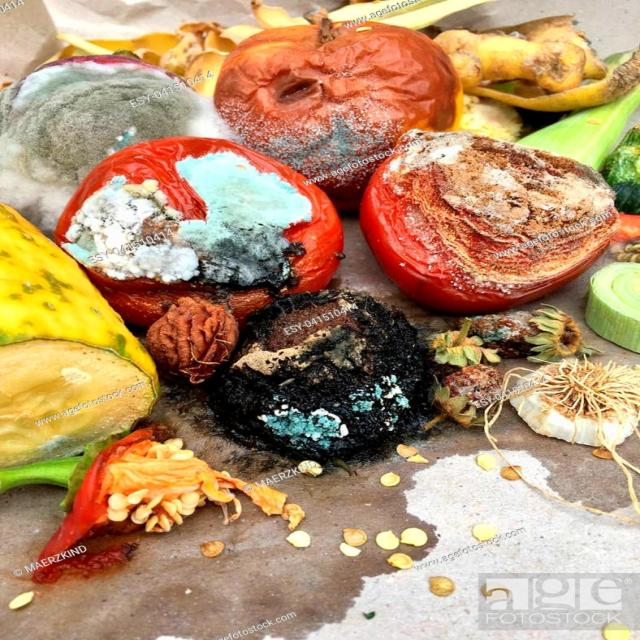Wet Waste: (144, 303, 496, 484), (67, 152, 360, 316), (15, 232, 176, 522), (366, 128, 610, 313), (217, 20, 410, 151), (29, 52, 196, 164)
